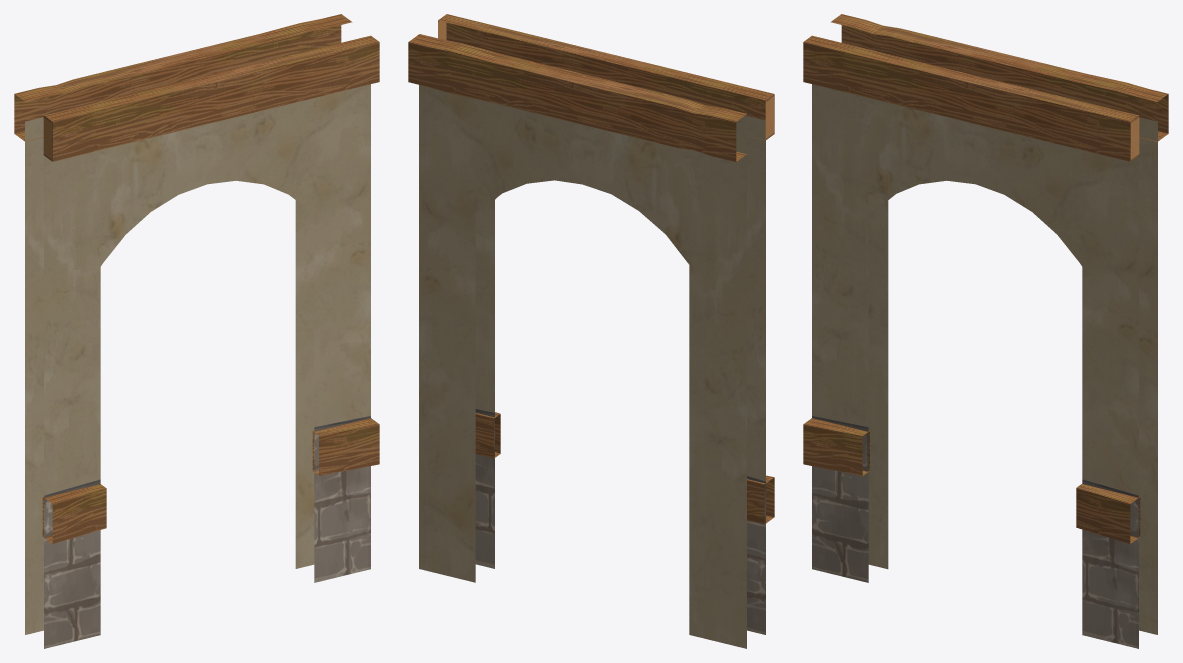
The model's file is wall_plaster_door.glb.
3 renders of one model, left to right at view 1: azimuth 30°, elevation 25°; view 2: azimuth 150°, elevation 25°; view 3: azimuth 330°, elevation 25°, orthographic.
Parts seen in each view (by area): view 1: Wall_Plaster_Door_Round; view 2: Wall_Plaster_Door_Round; view 3: Wall_Plaster_Door_Round.
Boxes of the visible parts, box(x1,y1,x2,y2) form: Wall_Plaster_Door_Round: box(14, 14, 379, 648); Wall_Plaster_Door_Round: box(408, 14, 774, 648); Wall_Plaster_Door_Round: box(803, 14, 1168, 648).
Bounding box in the file's own units: 2 × 3.12 × 0.4064.
Materials: 3 (3 with a texture image).
